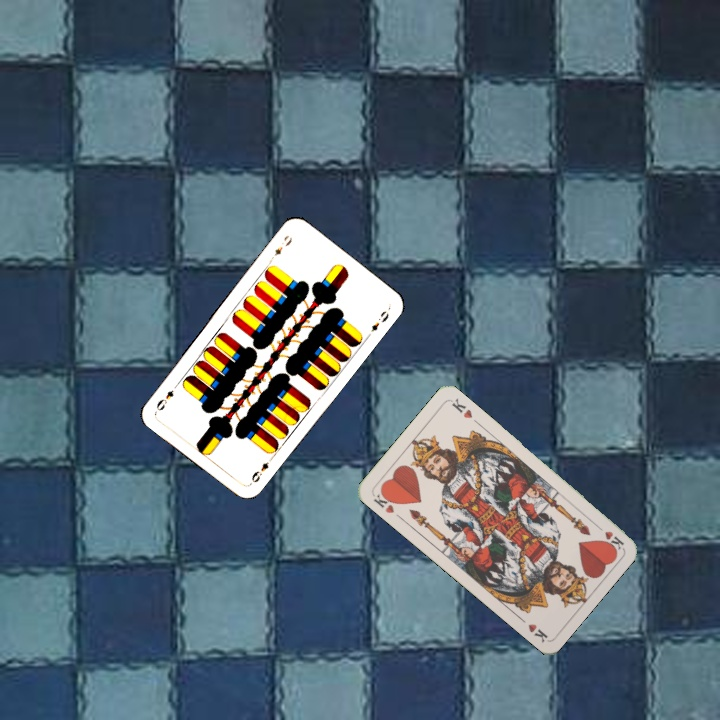E9: (247, 457, 271, 485), (271, 231, 295, 258)
HK: (591, 519, 627, 552), (369, 487, 399, 516)
